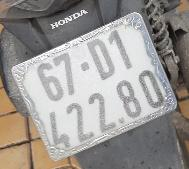0: (137, 68, 166, 115)
1: (108, 27, 133, 70)
2: (64, 101, 92, 144), (91, 93, 117, 137)
4: (39, 107, 75, 151)
6: (33, 57, 65, 103)
7: (54, 48, 82, 101)
8: (117, 79, 143, 123)
D: (88, 33, 116, 83)
